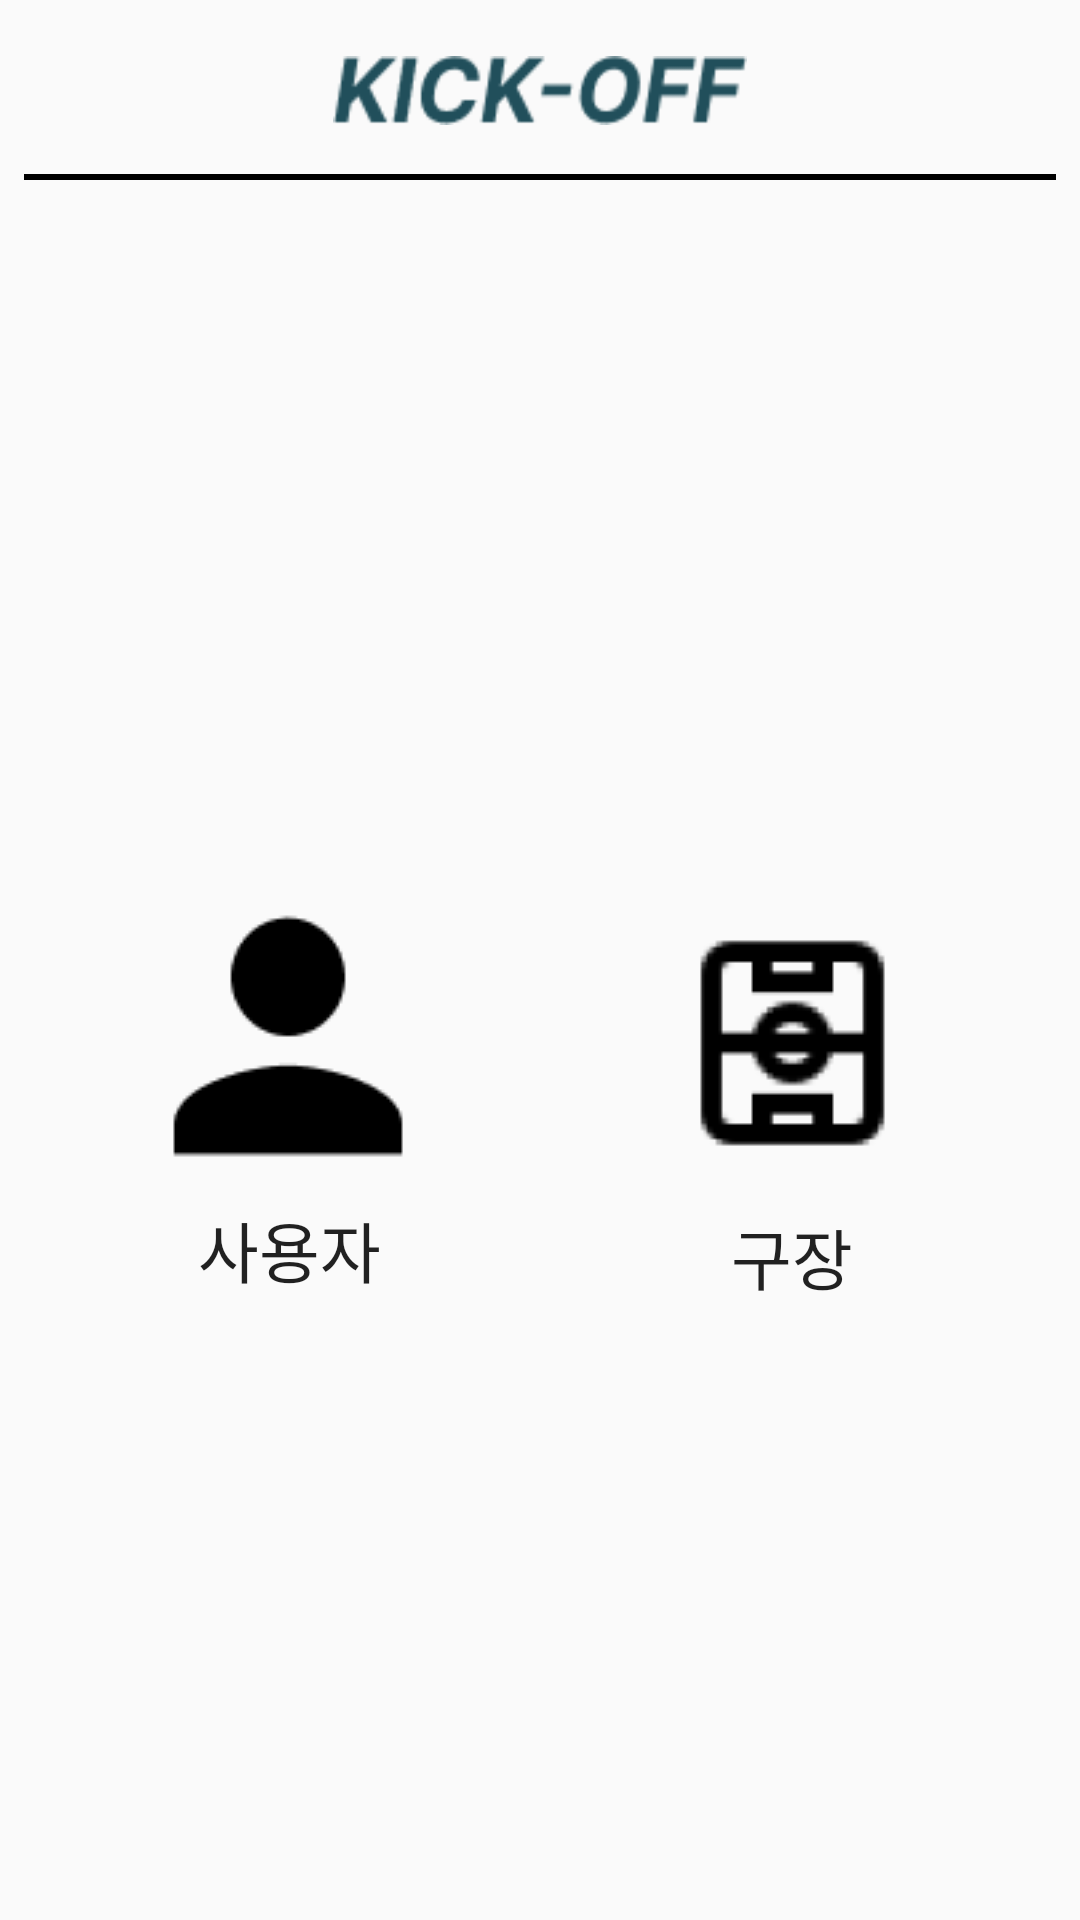

Where icons sit on this 1080px×1920px app screen, as [x1=x1, y1=y1, x2=x2, y2=y2]:
person: [x1=173, y1=915, x2=403, y2=1157]
stadium: [x1=700, y1=940, x2=885, y2=1146]
